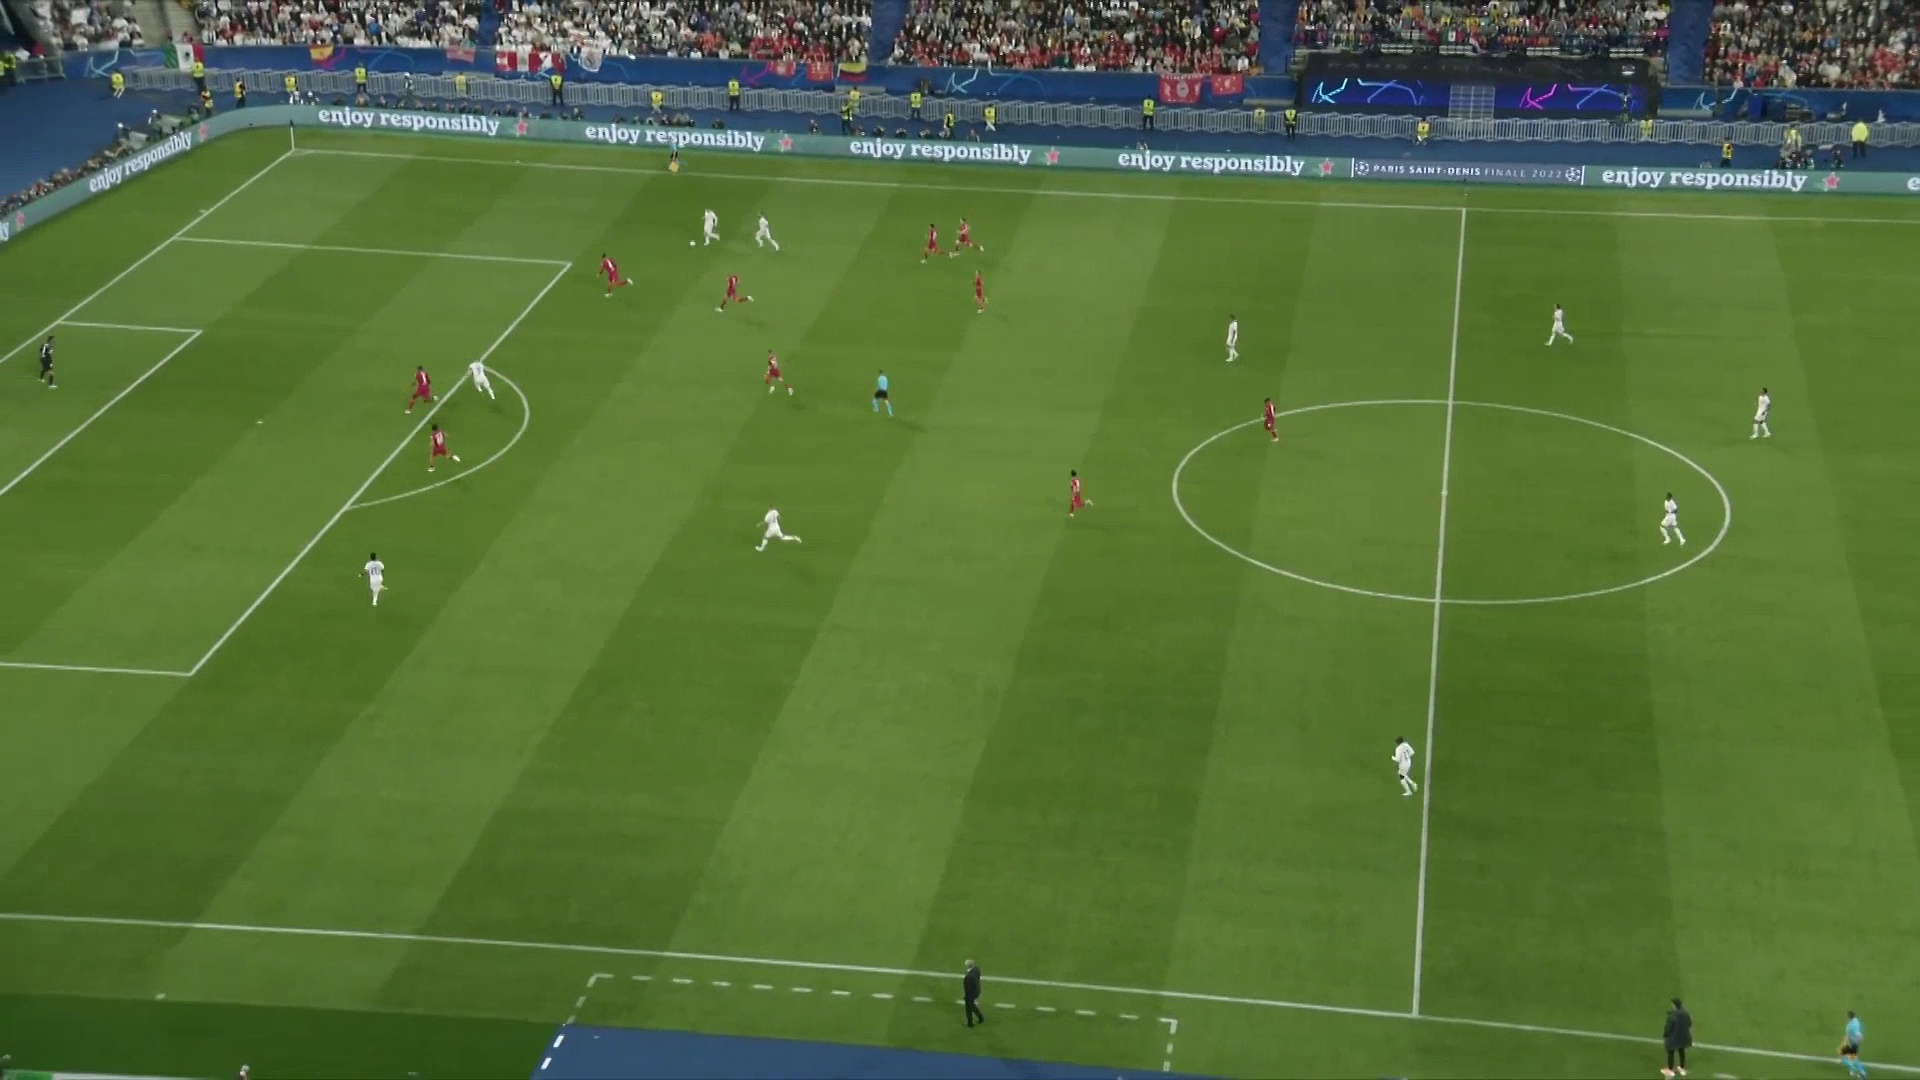ball: (683, 230, 698, 250)
player 1: (698, 202, 724, 246)
player 10: (1631, 472, 1692, 554)
player 11: (1381, 726, 1435, 802)
player 12: (41, 325, 69, 394)
player 13: (591, 246, 640, 304)
player 14: (414, 422, 470, 483)
player 15: (709, 267, 759, 317)
player 16: (401, 355, 444, 410)
player 17: (754, 347, 800, 407)
player 18: (912, 216, 952, 271)
player 19: (965, 265, 998, 321)
player 2: (744, 202, 786, 259)
player 20: (952, 215, 993, 256)
player 21: (1248, 390, 1295, 448)
player 22: (1065, 463, 1099, 528)
player 3: (351, 536, 396, 608)
player 4: (461, 349, 500, 399)
player 5: (743, 504, 814, 560)
player 7: (1207, 302, 1252, 368)
player 8: (1539, 299, 1579, 356)
player 9: (1745, 371, 1784, 453)
reffree: (866, 364, 901, 424)
